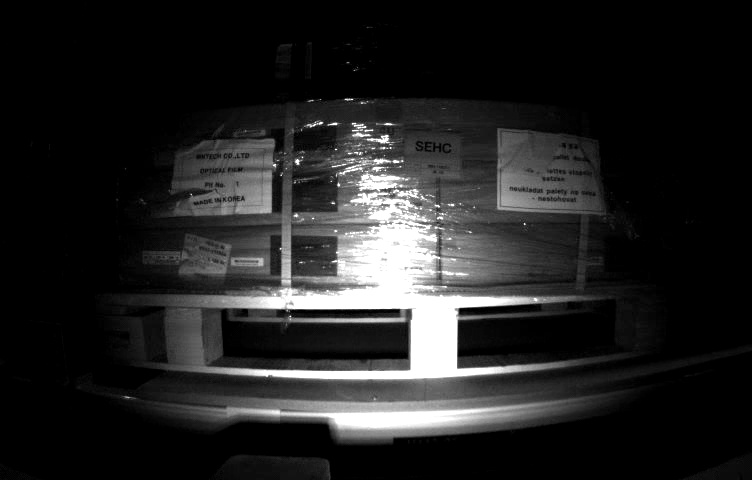True Barcode: (178, 236, 225, 289)
